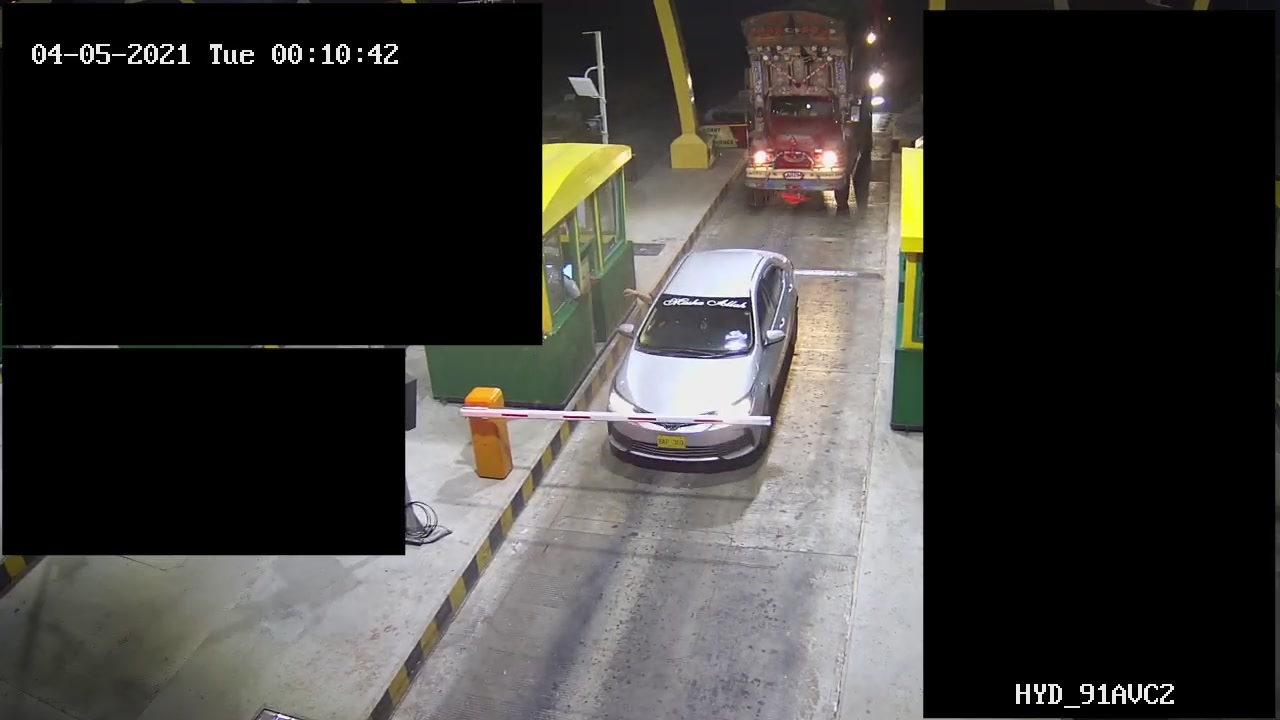F1: (602, 248, 823, 470)
